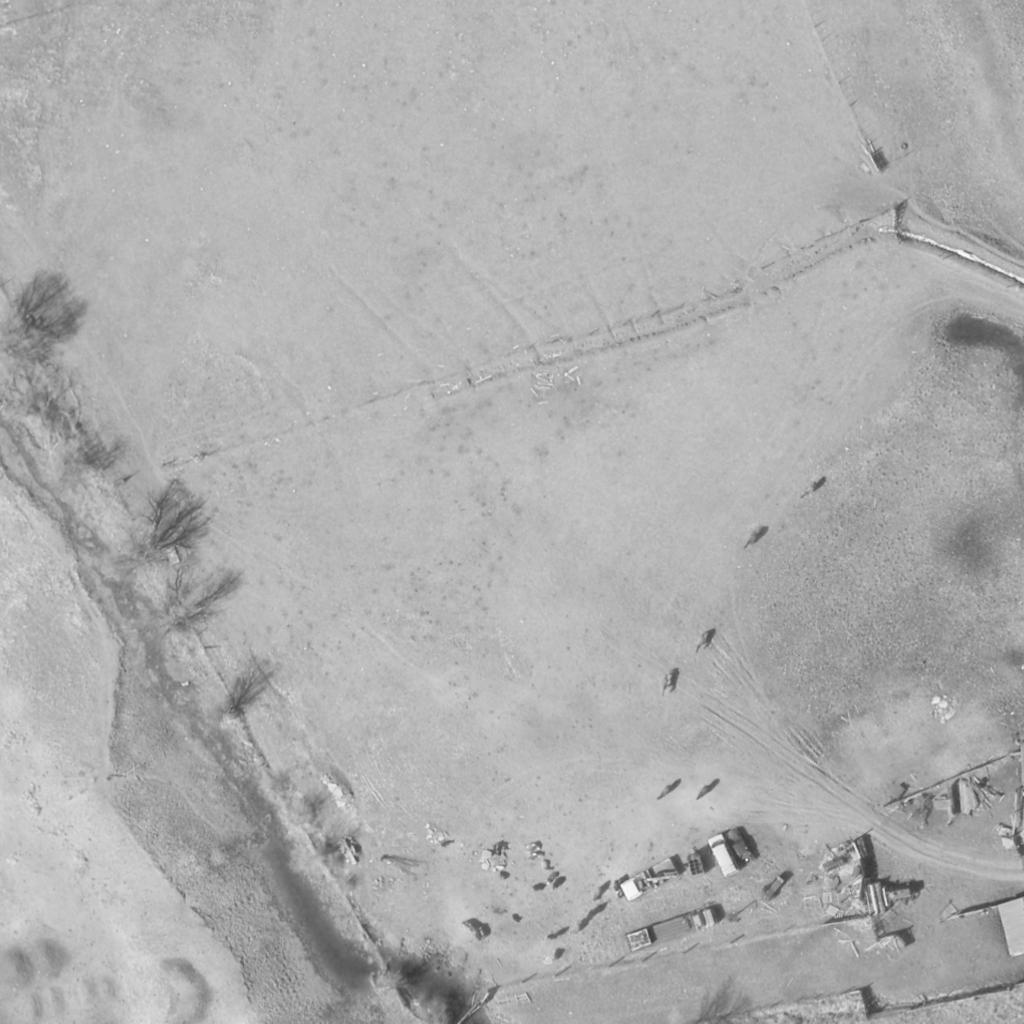vehicle: (627, 906, 721, 954), (620, 860, 684, 902), (707, 834, 741, 880)
